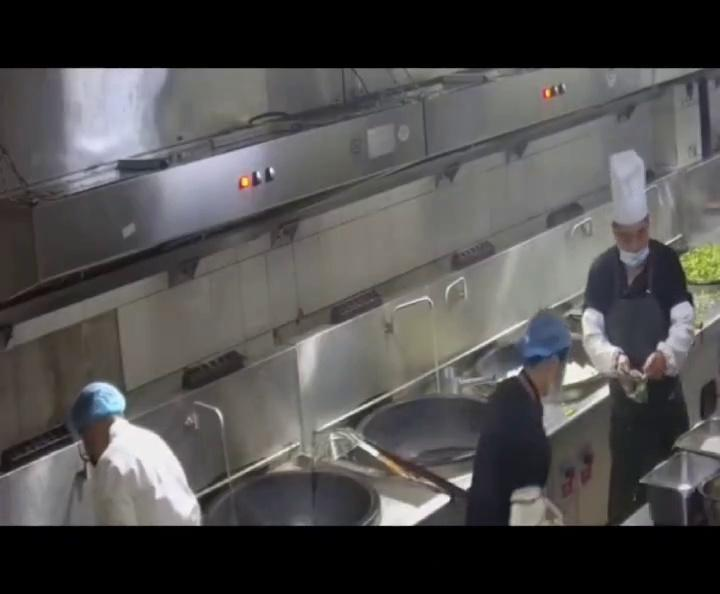mask: (614, 232, 652, 264)
